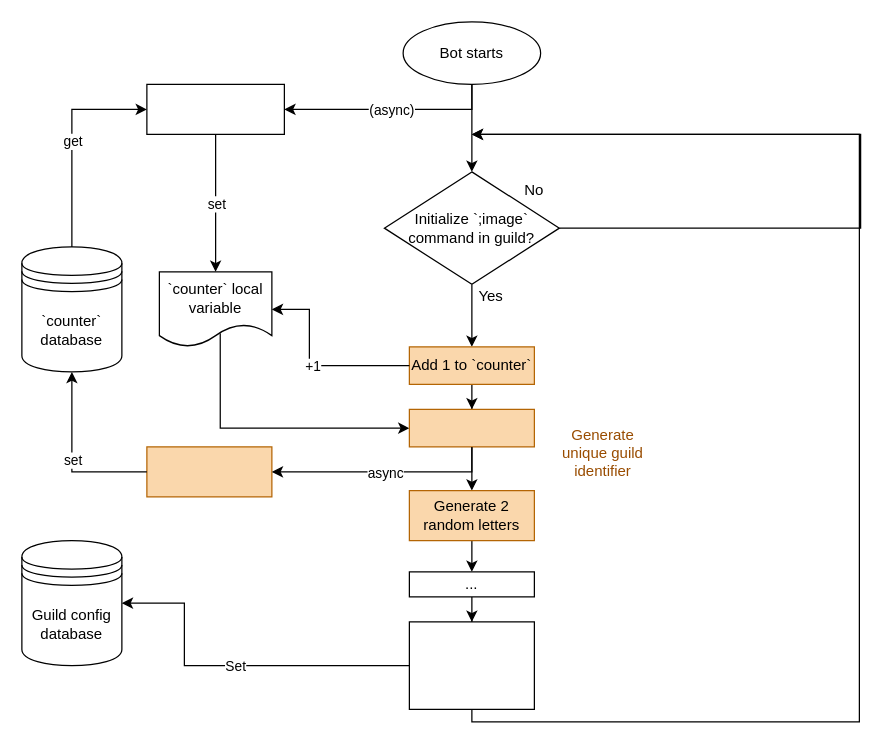
This 893x754 diagram has some shape labels left out. The centre of each missing label's shape, as x and y in pixels:
"Add to guild config with unique guild identifier" belongs at point (471, 665).
"Get `counter`" belongs at point (471, 427).
"Get from database" belongs at point (215, 108).
"Set database to `counter`" belongs at point (209, 471).
